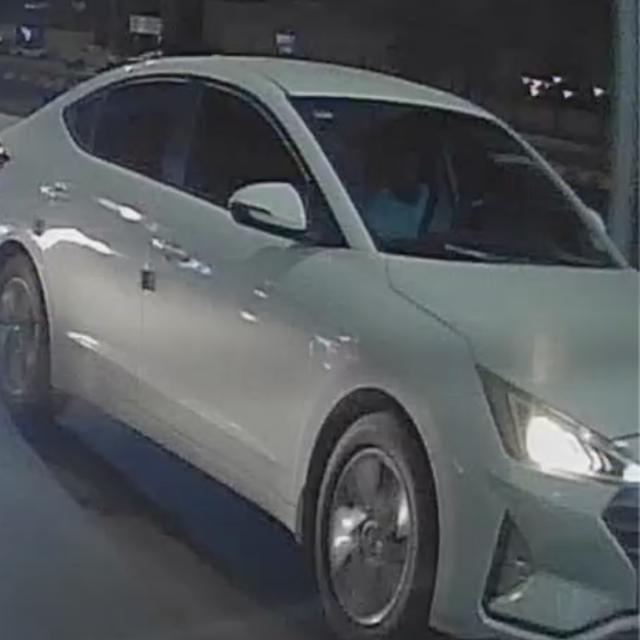person_with_seatbelt: (375, 114, 459, 245)
